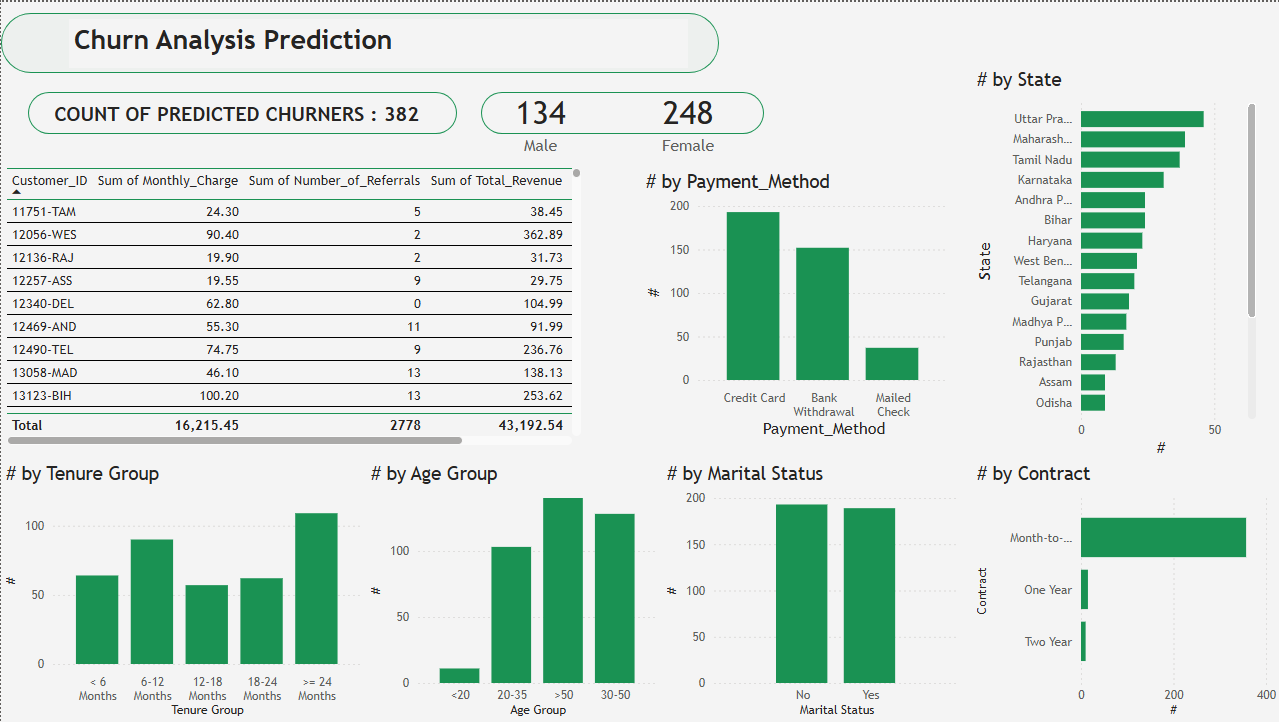

The dashboard page shown, as its layout file describes it:
{"tool":"powerbi","page":{"name":"Churn prediction","canvas":[1280,720],"ordinal":1},"visuals":[{"type":"tableEx","fields":{"Values":["Predictions.Customer_ID","Sum(Predictions.Monthly_Charge)","Sum(Predictions.Number_of_Referrals)","Sum(Predictions.Total_Revenue)","Sum(Predictions.Total_Refunds)"]},"box":[0,161.5,585.1,286.1],"z":0},{"type":"card","fields":{"Values":["tbl_measures.Title Predicted Churners"]},"box":[0,79.4,470.7,67.4],"z":1000},{"type":"card","fields":{"Values":["tbl_measures.Count Predicted Churner"]},"box":[619.2,78.4,135.7,83.1],"z":2000},{"type":"card","fields":{"Values":["tbl_measures.Count Predicted Churner"]},"box":[470.7,78.4,137.5,82.1],"z":3000},{"type":"clusteredColumnChart","fields":{"Category":["Mapping_AgeGrp.Age Group"],"Y":["CountNonNull(Predictions.Customer_ID)"]},"box":[365.5,459.6,295.3,260.2],"z":4000},{"type":"clusteredColumnChart","fields":{"Category":["Predictions.Married"],"Y":["CountNonNull(Predictions.Customer_ID)"]},"box":[660.8,459.6,302.7,260.2],"z":5000},{"type":"clusteredColumnChart","fields":{"Y":["CountNonNull(Predictions.Customer_ID)"],"Category":["mapping_TenuregRP.Tenure Group"]},"box":[0,459.6,365.5,260.2],"z":6000},{"type":"clusteredColumnChart","fields":{"Y":["CountNonNull(Predictions.Customer_ID)"],"Category":["Predictions.Payment_Method"]},"box":[640.5,168,312.8,273.2],"z":7000},{"type":"clusteredBarChart","fields":{"Category":["Predictions.Contract"],"Y":["CountNonNull(Predictions.Customer_ID)"]},"box":[970.8,459.6,309.2,260.2],"z":8000},{"type":"clusteredBarChart","fields":{"Category":["Predictions.State"],"Y":["CountNonNull(Predictions.Customer_ID)"]},"box":[970.8,66.4,288.9,393.1],"z":9000},{"type":"shape","box":[0,11.4,718,59.9],"z":10000},{"type":"textbox","box":[68.2,16.5,618.8,49.6],"z":11000},{"type":"shape","box":[479.9,90.4,283.3,41.5],"z":12000},{"type":"shape","box":[26.8,90.4,429.1,41.5],"z":13000}]}

Visuals, with their boxes in screenshot pixels (x1, y1, x2, y2), scaled from the page's 1280x720 canvas onto the 1279x722 screenshot:
tableEx - Predictions.Customer_ID x Sum(Predictions.Monthly_Charge): l=0, t=162, r=585, b=449
card - tbl_measures.Title Predicted Churners: l=0, t=80, r=470, b=147
card - tbl_measures.Count Predicted Churner: l=619, t=79, r=754, b=162
card - tbl_measures.Count Predicted Churner: l=470, t=79, r=608, b=161
clusteredColumnChart - Mapping_AgeGrp.Age Group x CountNonNull(Predictions.Customer_ID): l=365, t=461, r=660, b=721
clusteredColumnChart - Predictions.Married x CountNonNull(Predictions.Customer_ID): l=660, t=461, r=963, b=721
clusteredColumnChart - CountNonNull(Predictions.Customer_ID) x mapping_TenuregRP.Tenure Group: l=0, t=461, r=365, b=721
clusteredColumnChart - CountNonNull(Predictions.Customer_ID) x Predictions.Payment_Method: l=640, t=168, r=953, b=442
clusteredBarChart - Predictions.Contract x CountNonNull(Predictions.Customer_ID): l=970, t=461, r=1278, b=721
clusteredBarChart - Predictions.State x CountNonNull(Predictions.Customer_ID): l=970, t=67, r=1259, b=461
shape: l=0, t=11, r=717, b=71
textbox: l=68, t=17, r=686, b=66
shape: l=480, t=91, r=763, b=132
shape: l=27, t=91, r=456, b=132
